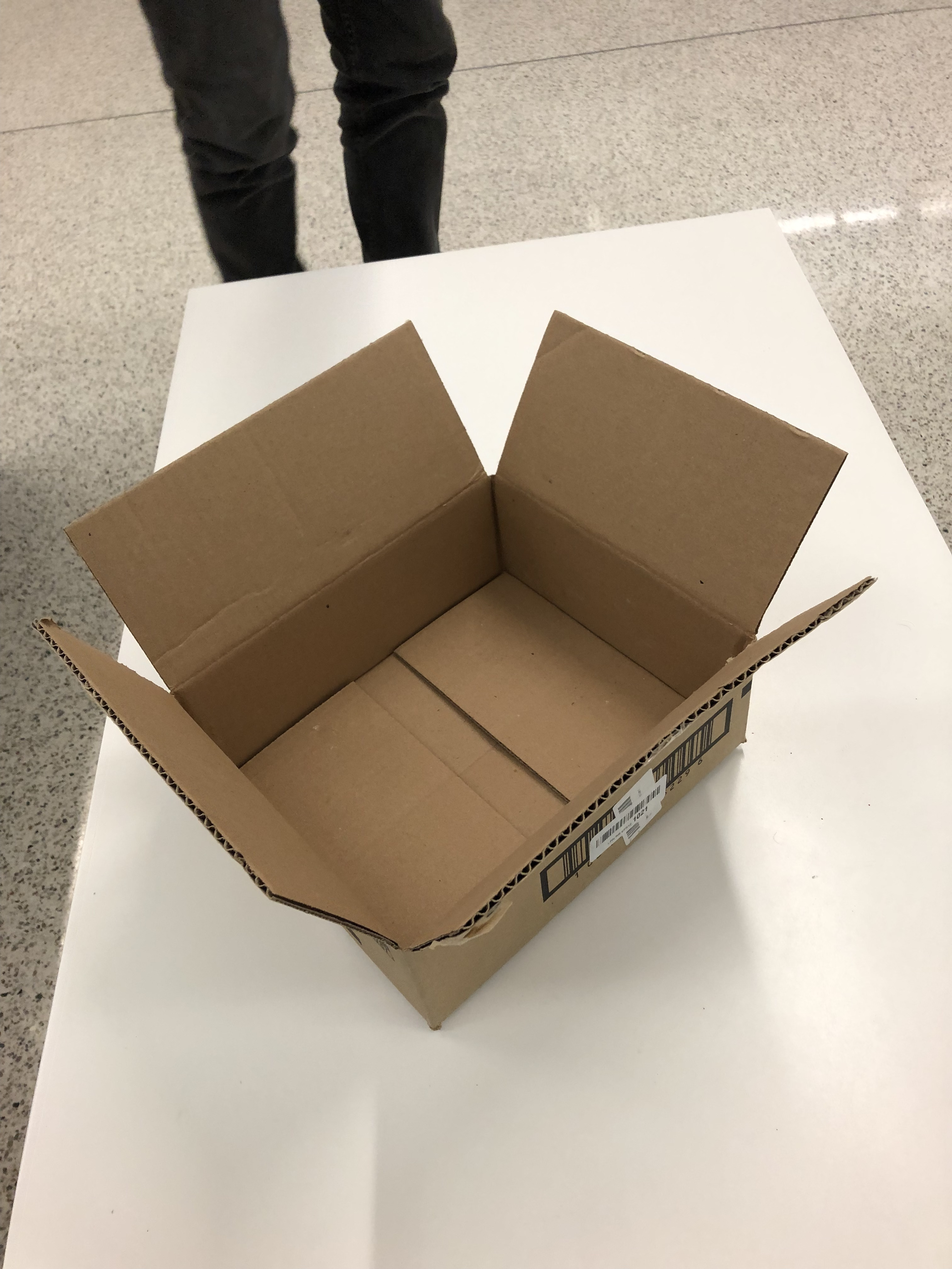box: (43, 316, 867, 1024)
crushed: (41, 313, 870, 948)
